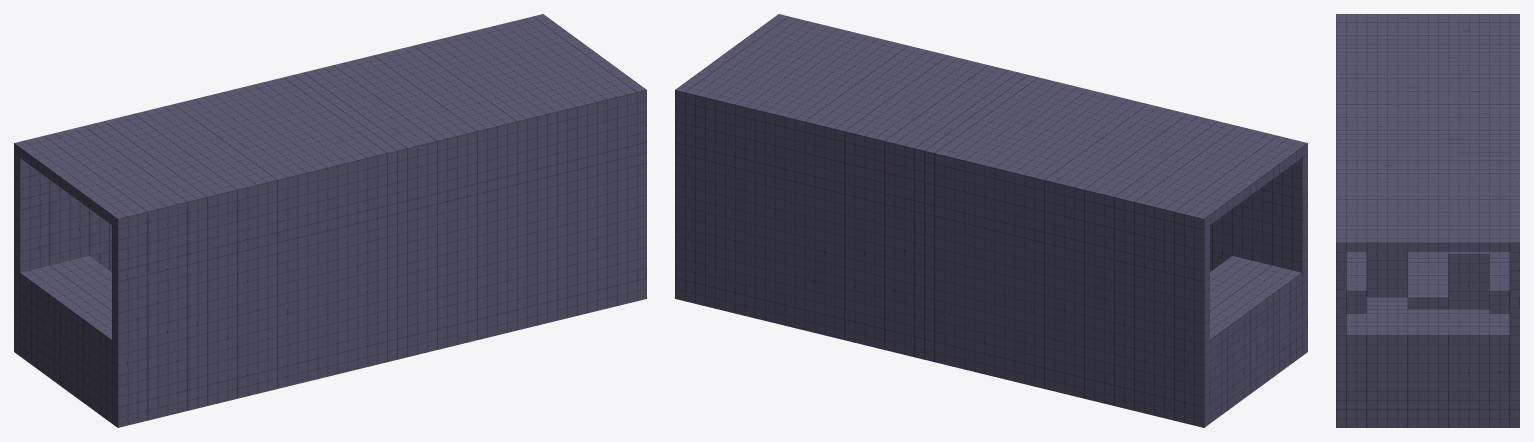
The model's file is Module_2.fbx.
3 views of the same model, side by side, from view 1: azimuth 30°, elevation 25°; view 2: azimuth 150°, elevation 25°; view 3: azimuth 270°, elevation 25° (orthographic). The views are drawn at different scales.
Visible parts, largest first — view 1: Module_2; view 2: Module_2; view 3: Module_2.
Boxes of the visible parts, x1,y1,x2,y2 form: Module_2: (14,14,646,427); Module_2: (675,14,1307,427); Module_2: (1336,14,1519,427).
Size of the model in its own units: 5300 by 2000 by 1800.
